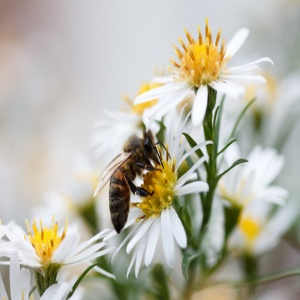bee: (92, 129, 172, 240)
